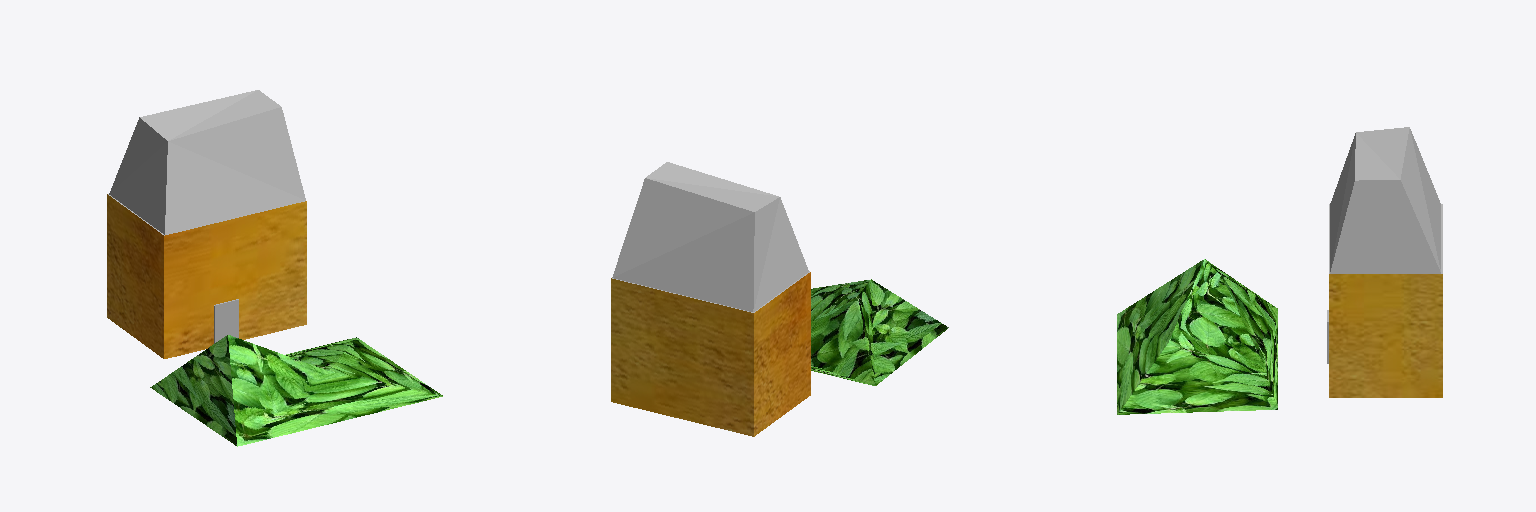
The picture shows the model from 3 angles: view 1: azimuth 30°, elevation 25°; view 2: azimuth 150°, elevation 25°; view 3: azimuth 270°, elevation 25°; orthographic projection.
Parts seen in each view (by area): view 1: Cube; view 2: Cube; view 3: Cube.
Boxes of the visible parts, <box> form: Cube: <box>107,90,442,446</box>; Cube: <box>611,162,948,436</box>; Cube: <box>1117,127,1442,414</box>.
Bounding box in the file's own units: 10.52 × 10.08 × 13.89.
4 materials, 2 textured.